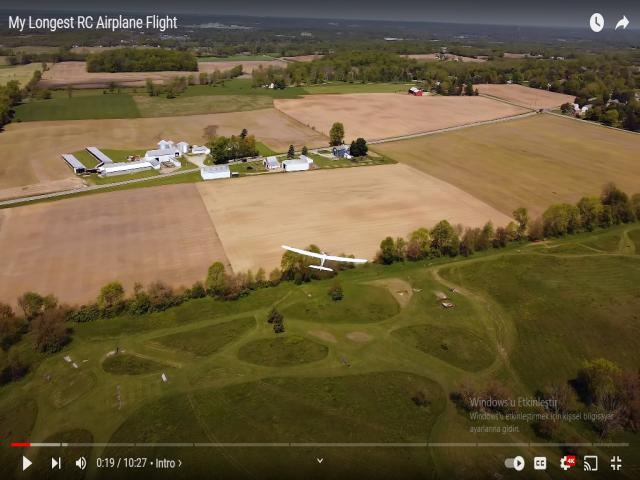plane: (282, 243, 368, 273), (282, 244, 368, 274)
